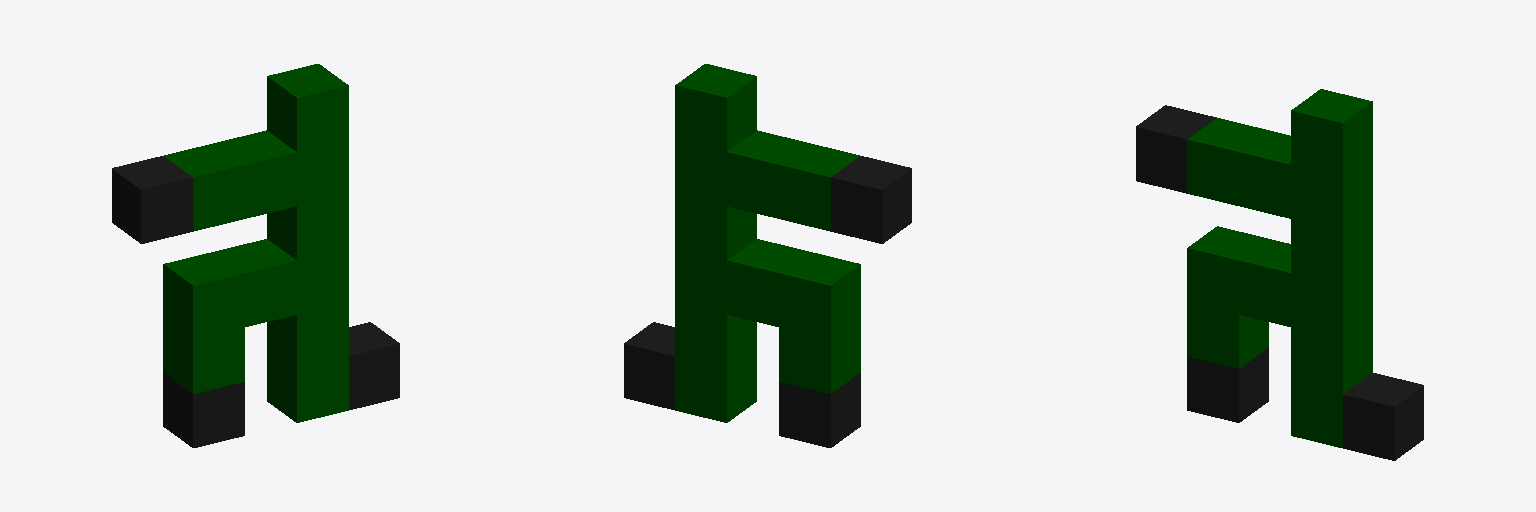
3 views of the same model, side by side, from view 1: azimuth 30°, elevation 25°; view 2: azimuth 150°, elevation 25°; view 3: azimuth 330°, elevation 25° (orthographic).
Size of the model in its own units: 5 by 6 by 1.
Materials: 1 (1 with a texture image).